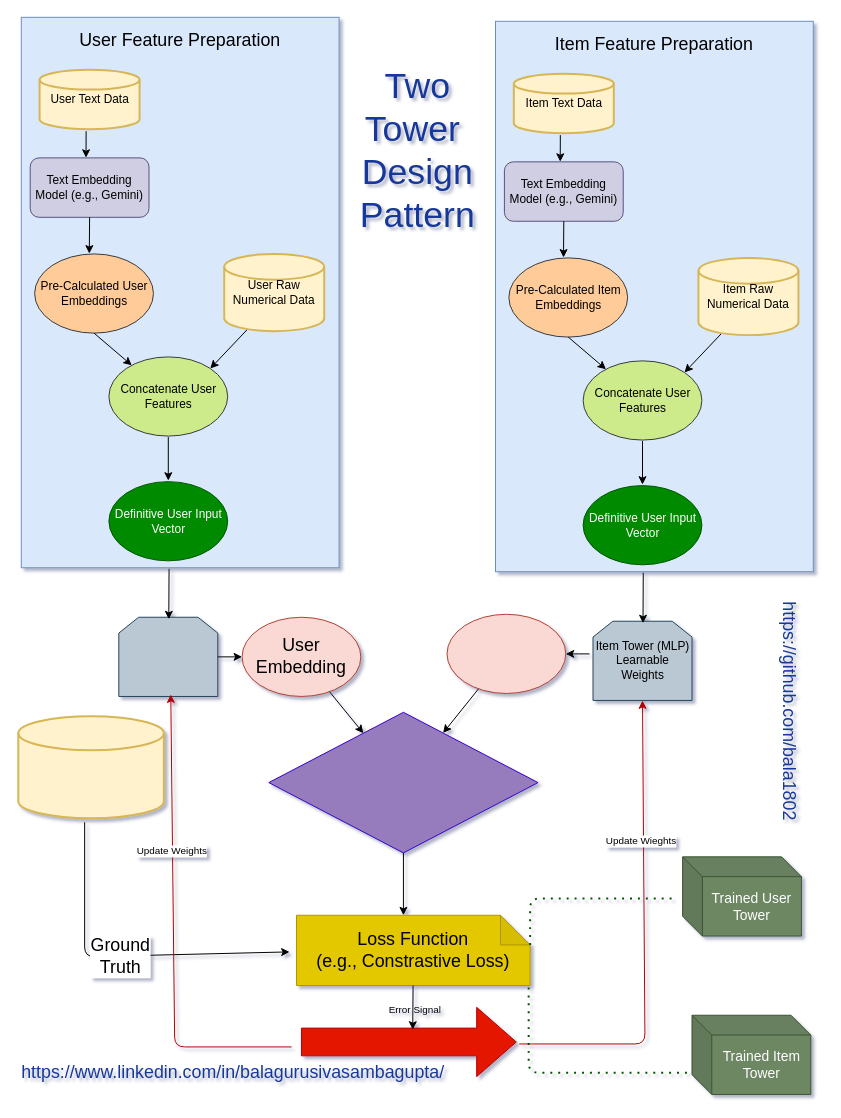
Some shapes in this 841 by 1118 pixel diagram are drawn without their labels. The shapes that lost their labels are listed below. From the top down, each one's centre as x and y in pixels, then its label:
(168,656): User Tower (MLP) Learnable Weights
(506,653): Item Embedding
(90,767): User-Item Interations (Training Data
(403,782): Similarity Operation (Dot Product or Cosine Similarity)
(408,1041): Backpropagation
